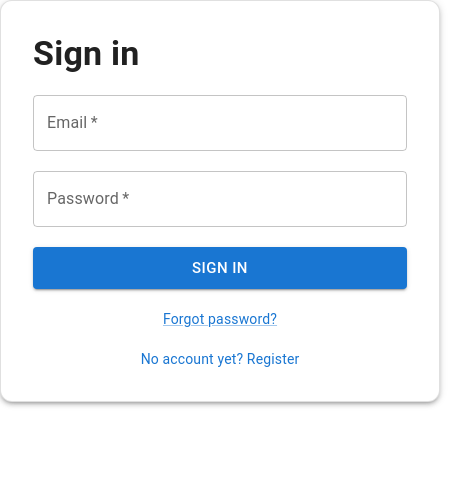
Test case: AuthForm › explains that a sign-in is blocked until the email is verified
Type "player@example.test" into the field labelled "Email *" at (220, 123), box 33,95 -> 407,151
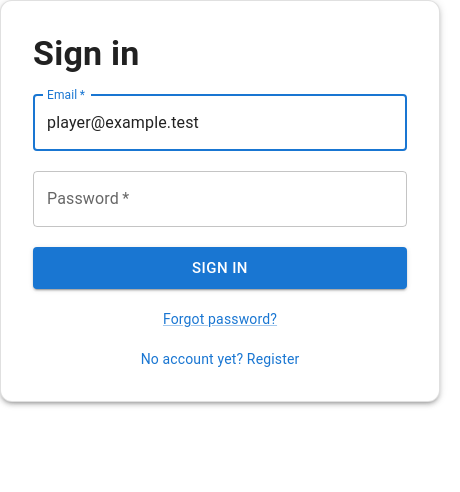
Type "correct-horse-battery" into the password field labelled "Password *" at (220, 199), box 33,171 -> 407,227
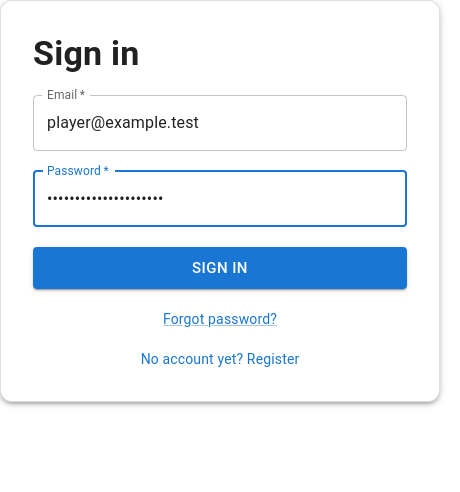
Click the button "Sign in" at (220, 268), box 33,247 -> 407,289
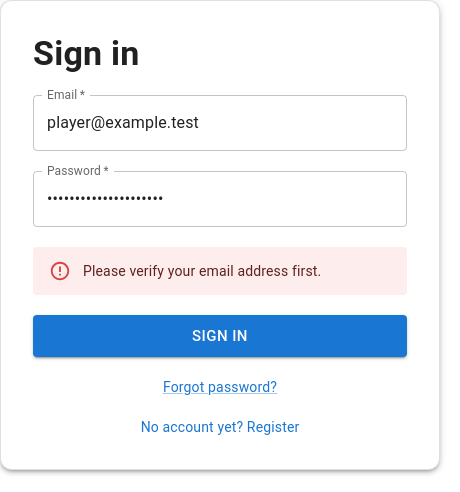
expect the message reads "Please verify your email address first.": met, box 83,263 -> 321,279
